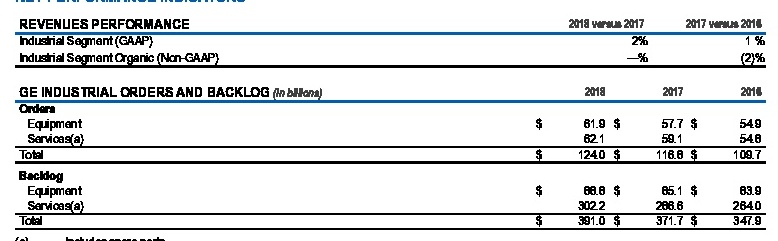table: (0, 0, 778, 241)
